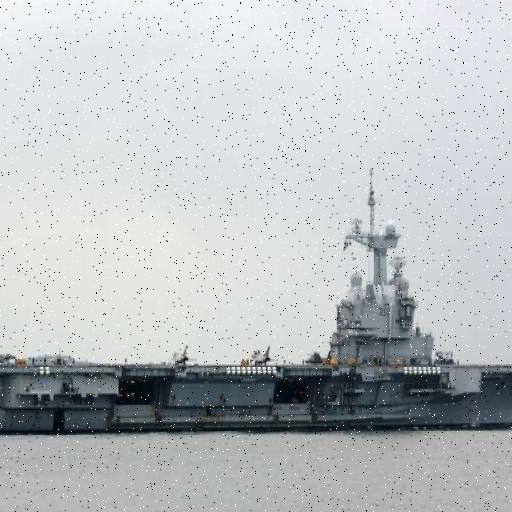Portanaves: (1, 163, 512, 440)
